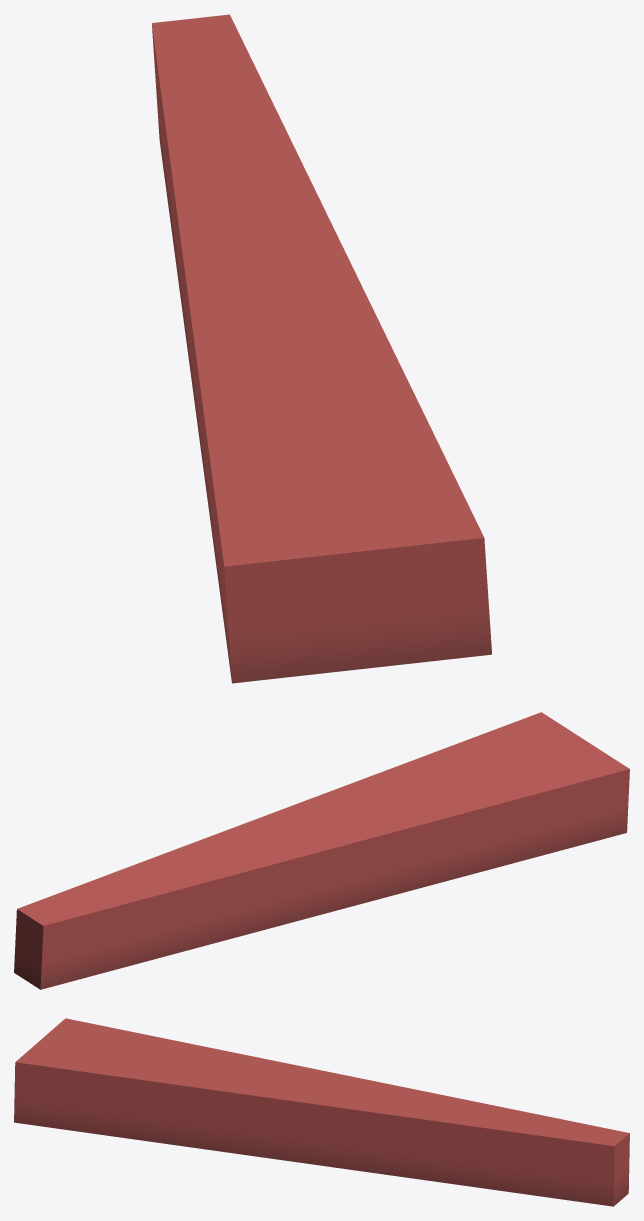
Rendered from PlatTri01.033.glb.
3 views of the same model, one above another, from view 1: azimuth 30°, elevation 25°; view 2: azimuth 150°, elevation 25°; view 3: azimuth 270°, elevation 25° (orthographic). The views are drawn at different scales.
Visible parts, largest first — view 1: PlatTri01.033; view 2: PlatTri01.033; view 3: PlatTri01.033.
Boxes of the visible parts, box(x1,y1,x2,y2) form: PlatTri01.033: box(152, 14, 491, 683); PlatTri01.033: box(14, 712, 629, 989); PlatTri01.033: box(14, 1018, 629, 1206).
Size of what is drawn, in the model's own units: 5.75 by 1.29 by 10.93.
Materials: 1 (1 with a texture image).
